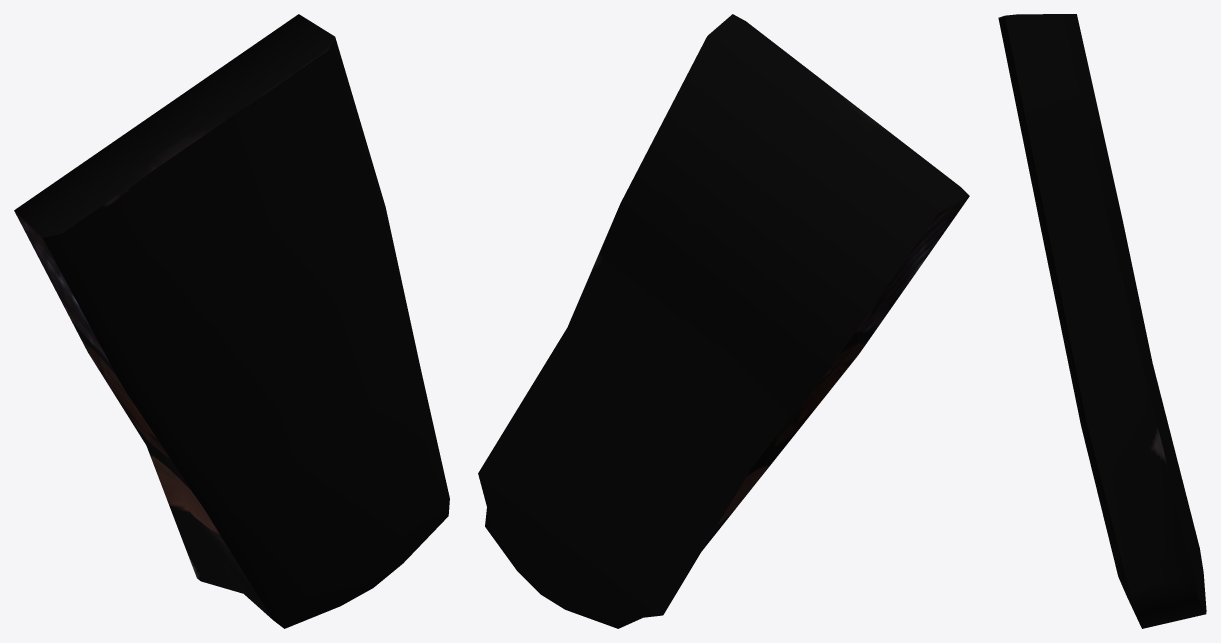
File: Tank_Shield_Rig.FBX
3 views of the same model, side by side, from view 1: azimuth 30°, elevation 25°; view 2: azimuth 150°, elevation 25°; view 3: azimuth 270°, elevation 25° (orthographic). The views are drawn at different scales.
Parts seen in each view (by area): view 1: Tank_Shield; view 2: Tank_Shield; view 3: Tank_Shield.
Boxes of the visible parts, <box> form: Tank_Shield: <box>14,14,449,628</box>; Tank_Shield: <box>478,14,969,628</box>; Tank_Shield: <box>998,14,1206,628</box>.
Size of the model in its own units: 69.57 by 90.96 by 29.6.
